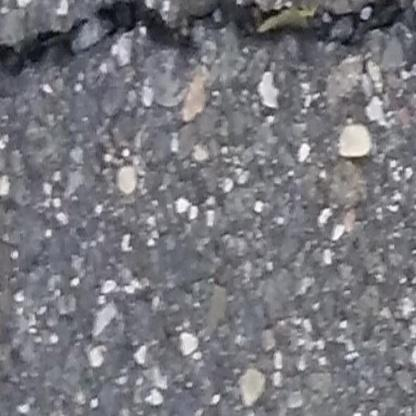Cracks: (0, 0, 416, 94)
